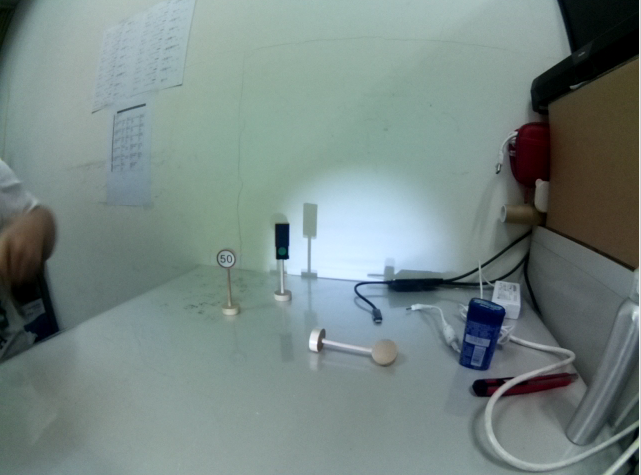Green: (271, 220, 292, 266)
Speed50: (214, 244, 240, 272)
